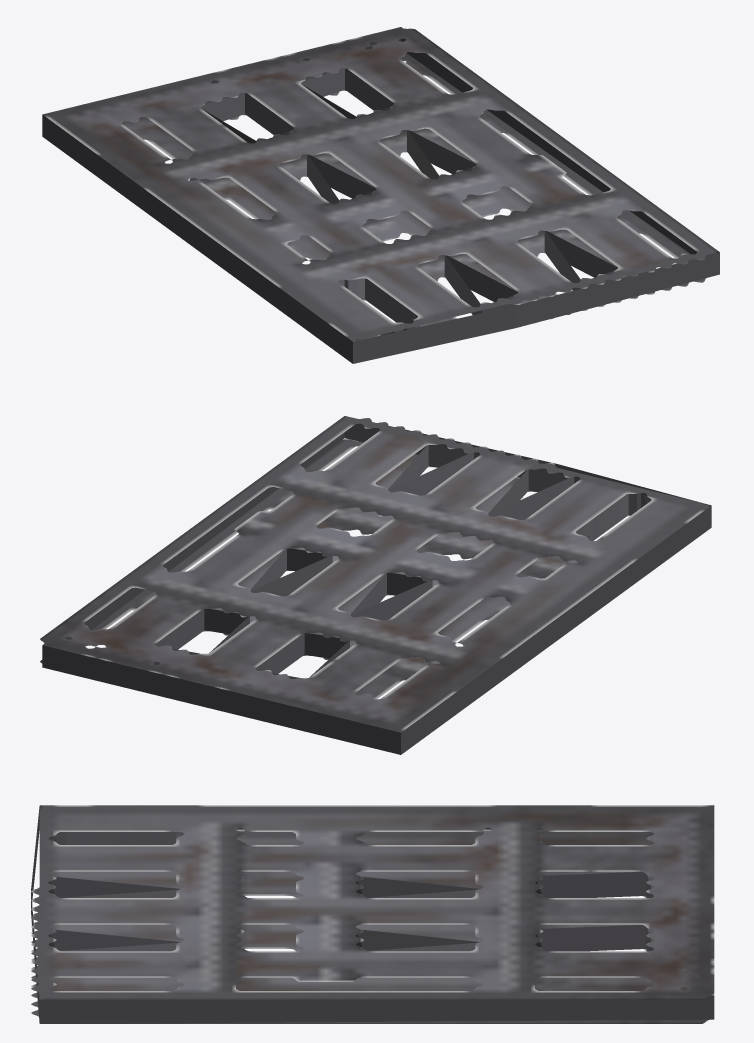
File: pz_native_location_community_police_01_41_frame.obj
3 views of the same model, one above another, from view 1: azimuth 30°, elevation 25°; view 2: azimuth 150°, elevation 25°; view 3: azimuth 270°, elevation 25° (orthographic). The views are drawn at different scales.
Parts seen in each view (by area): view 1: pz_native_location_community_police_01_41_frame; view 2: pz_native_location_community_police_01_41_frame; view 3: pz_native_location_community_police_01_41_frame.
Part boxes in pixels (x1=…): pz_native_location_community_police_01_41_frame: x1=42, y1=27, x2=719, y2=363; pz_native_location_community_police_01_41_frame: x1=40, y1=416, x2=711, y2=754; pz_native_location_community_police_01_41_frame: x1=31, y1=805, x2=714, y2=1023.
Size of the model in its own units: 0.7344 by 0.04 by 1.08.
1 material, 1 textured.
